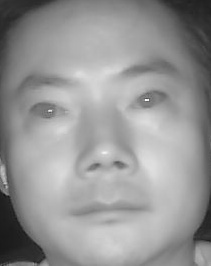eye: (26, 98, 71, 123), (128, 88, 169, 113)
mouth: (70, 189, 149, 232)
